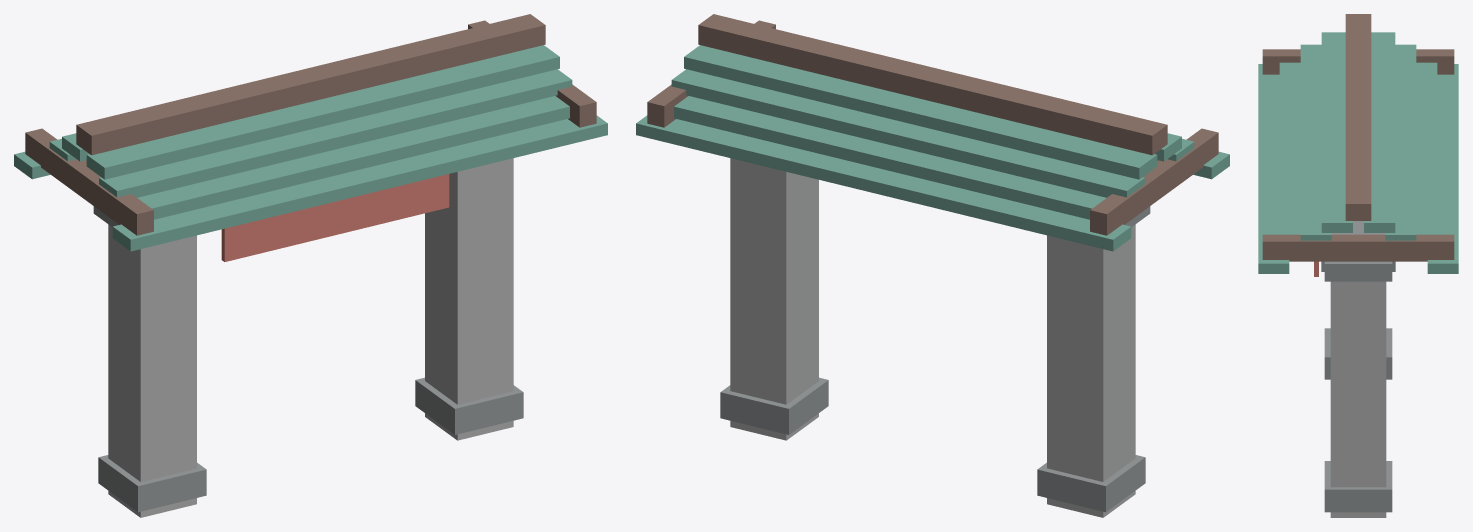
Rendered from gate_stone_6m.glb.
The picture shows the model from 3 angles, left to right: view 1: azimuth 30°, elevation 25°; view 2: azimuth 150°, elevation 25°; view 3: azimuth 270°, elevation 25°; orthographic projection. The views are drawn at different scales.
Parts seen in each view (by area): view 1: roof_jade, stone, wood_dark, cloth, stone_dark; view 2: roof_jade, stone, wood_dark, stone_dark; view 3: roof_jade, stone, wood_dark, stone_dark.
Boxes of the visible parts, x1,y1,x2,y2 form: roof_jade: (14, 45, 607, 251); stone: (108, 158, 513, 517); wood_dark: (25, 14, 596, 235); cloth: (221, 174, 449, 261); stone_dark: (93, 206, 523, 512); roof_jade: (636, 45, 1229, 251); stone: (730, 158, 1135, 517); wood_dark: (647, 14, 1218, 235); stone_dark: (720, 206, 1150, 512); roof_jade: (1258, 32, 1458, 273); stone: (1330, 281, 1386, 517); wood_dark: (1262, 14, 1454, 261); stone_dark: (1321, 221, 1395, 512).
Bounding box in the file's own units: 7.65 × 5.91 × 3.24.
